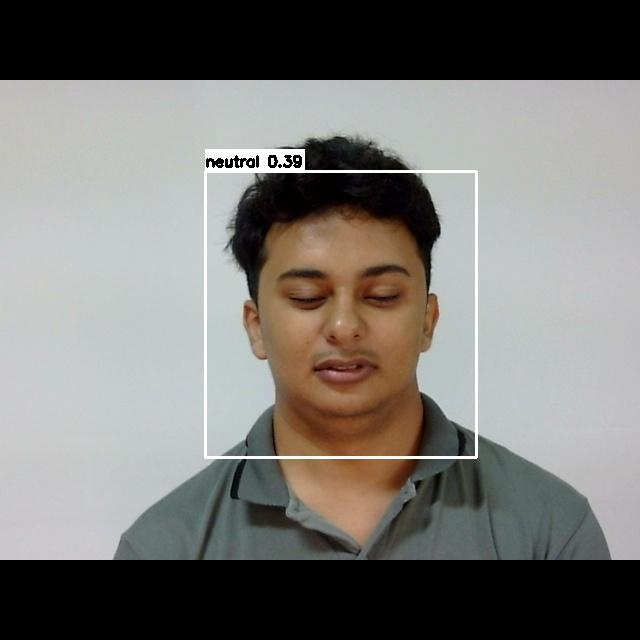Sad: (254, 241, 426, 388)
